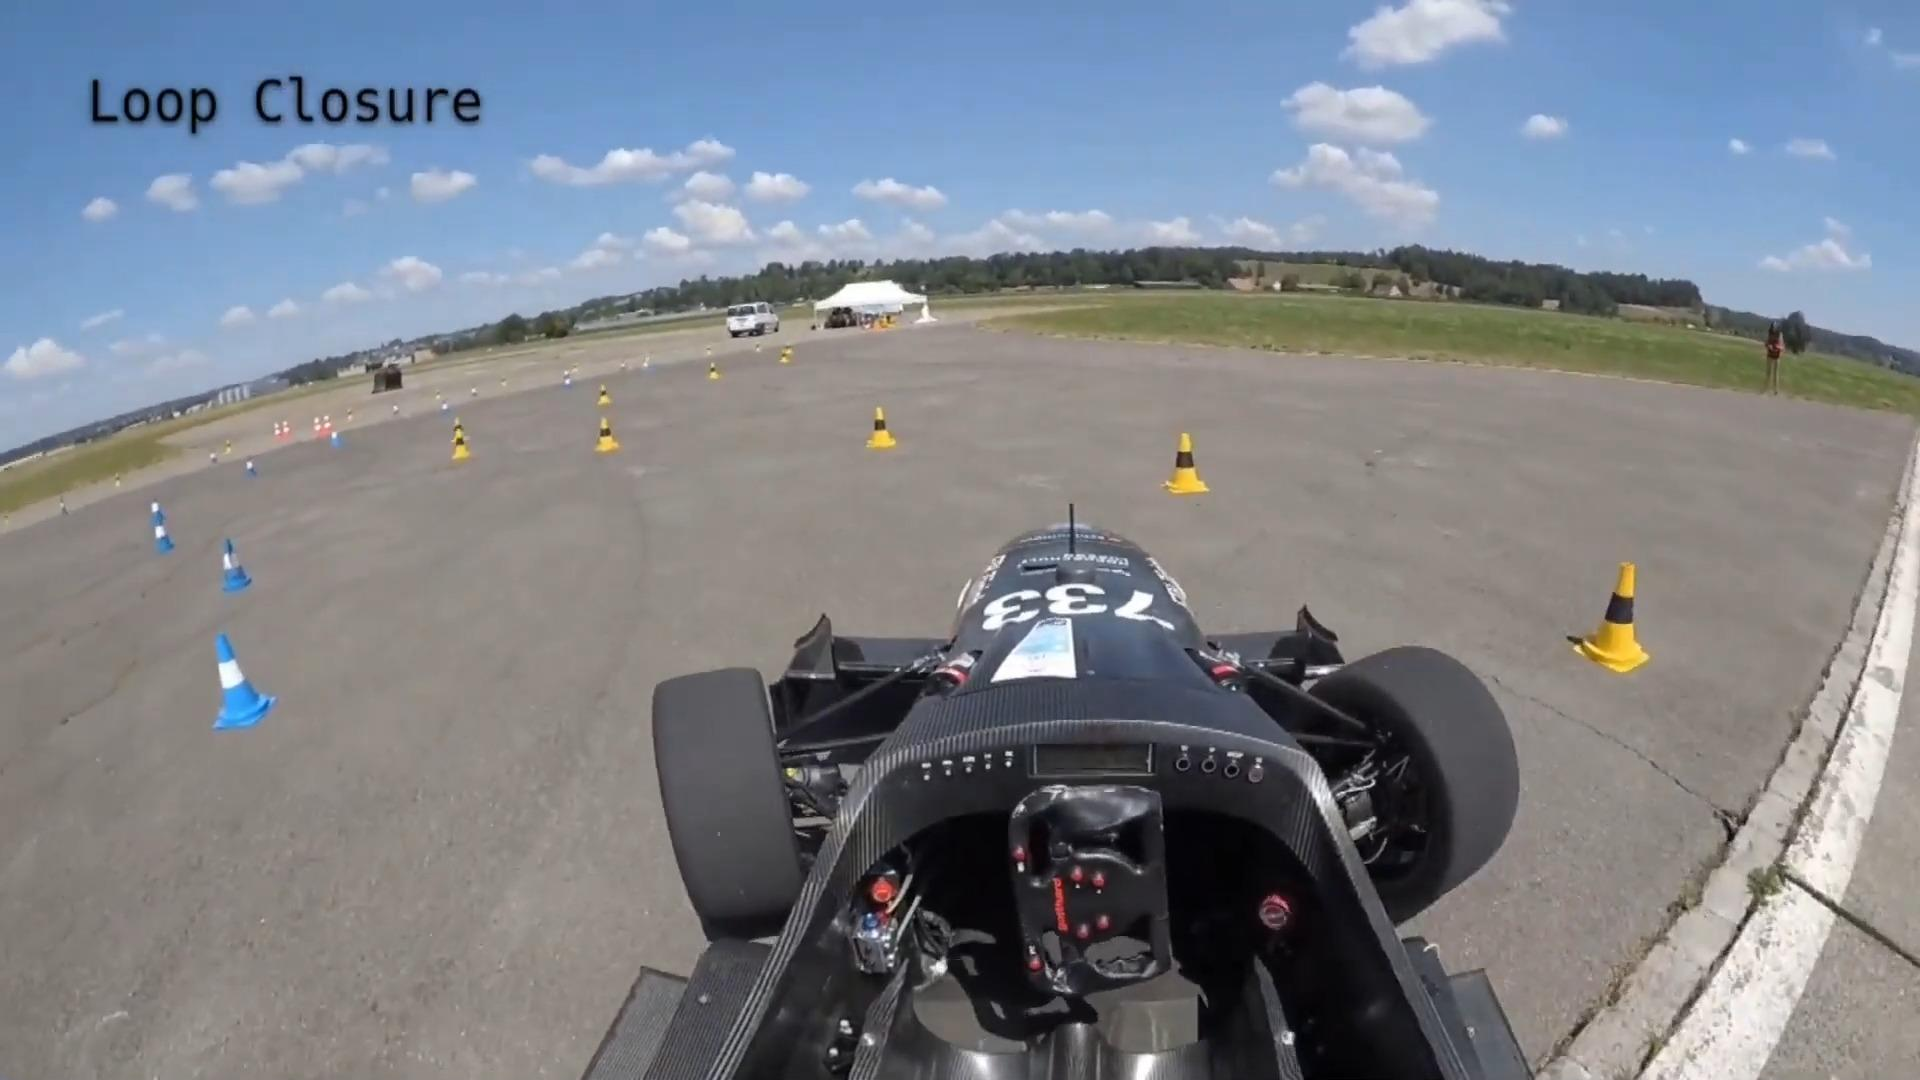blue_cone: (209, 628, 272, 732), (221, 535, 254, 592), (154, 513, 175, 555)
yellow_cone: (1571, 560, 1648, 673), (1162, 433, 1209, 493), (866, 405, 895, 448), (596, 415, 620, 455), (451, 425, 472, 460)
